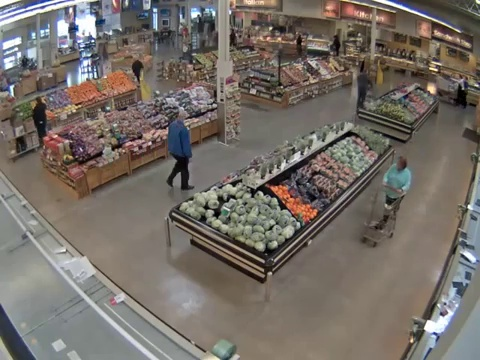face: (394, 159, 406, 171)
